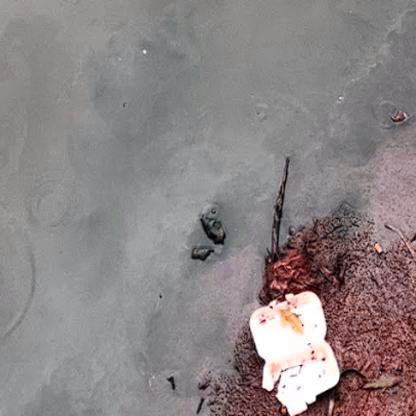Trash: (248, 284, 343, 416)
